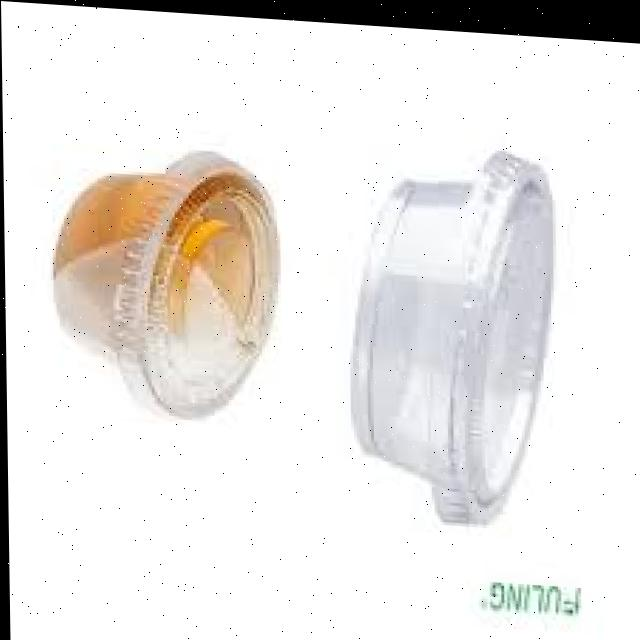disposable: (334, 118, 575, 532), (35, 104, 292, 454)
